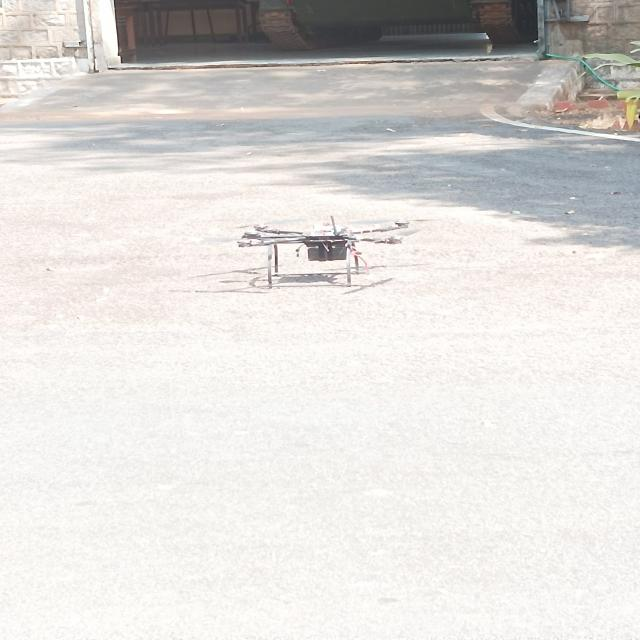drone: (217, 212, 425, 296)
